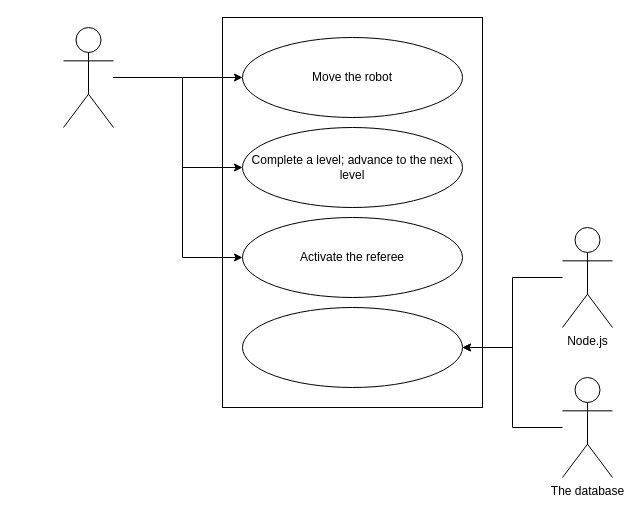
The diagram is 641 pixels wide and 516 high, and some of its shapes have lost their labels. Each missing label, with the centre of its shape:
Saves the player's game data: the point at 352,347
The child playing the game: the point at 88,77
